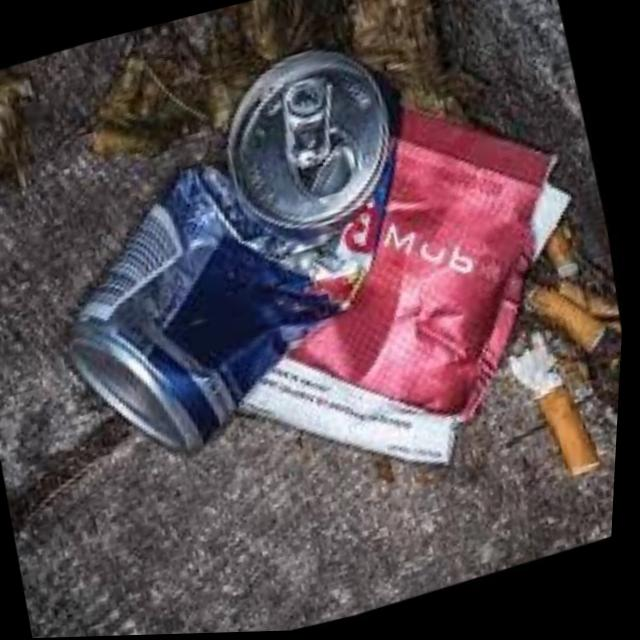clothes: (0, 2, 503, 502)
food: (112, 74, 636, 542)
plastic bag: (56, 0, 471, 207), (0, 56, 63, 182)
wood: (471, 197, 631, 499)
